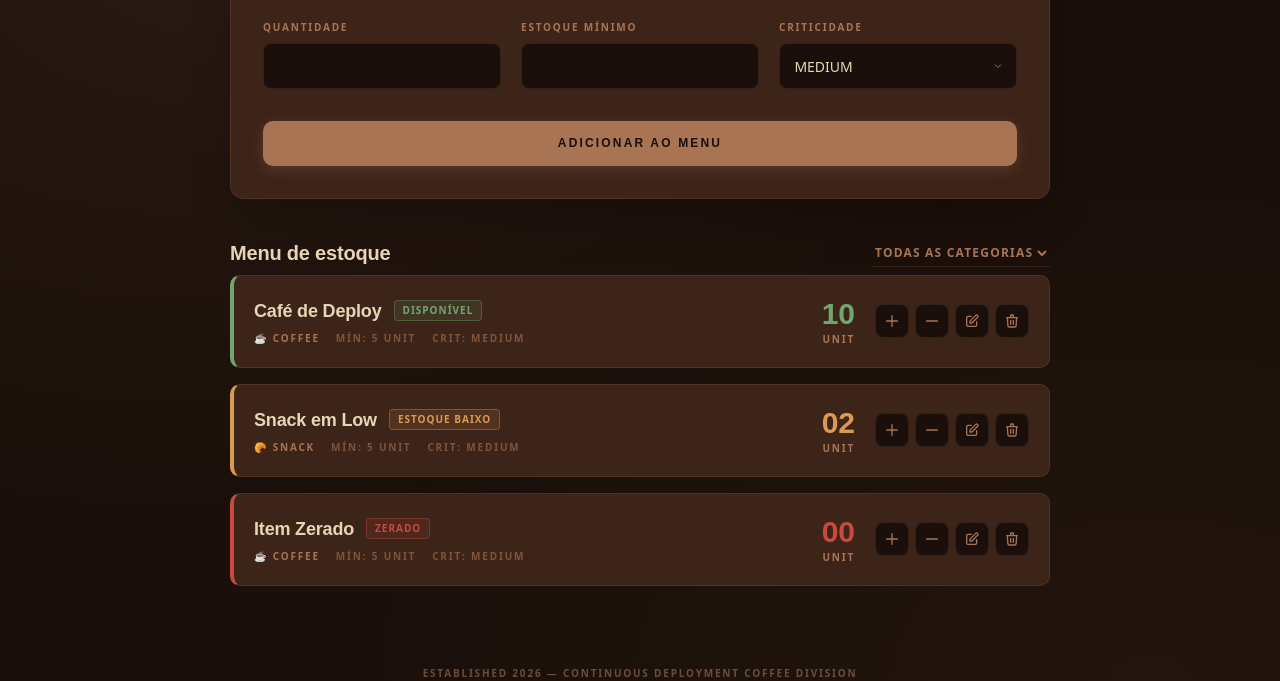
Test: PipelineCafePage › ações no cardápio › exibe erro ao falhar remoção
The width and height of the screenshot is (1280, 681).
(page scrolled)
Step 1. Click the button titled "Remover" next to "10" → (1012, 321), box [995,304,1029,338]
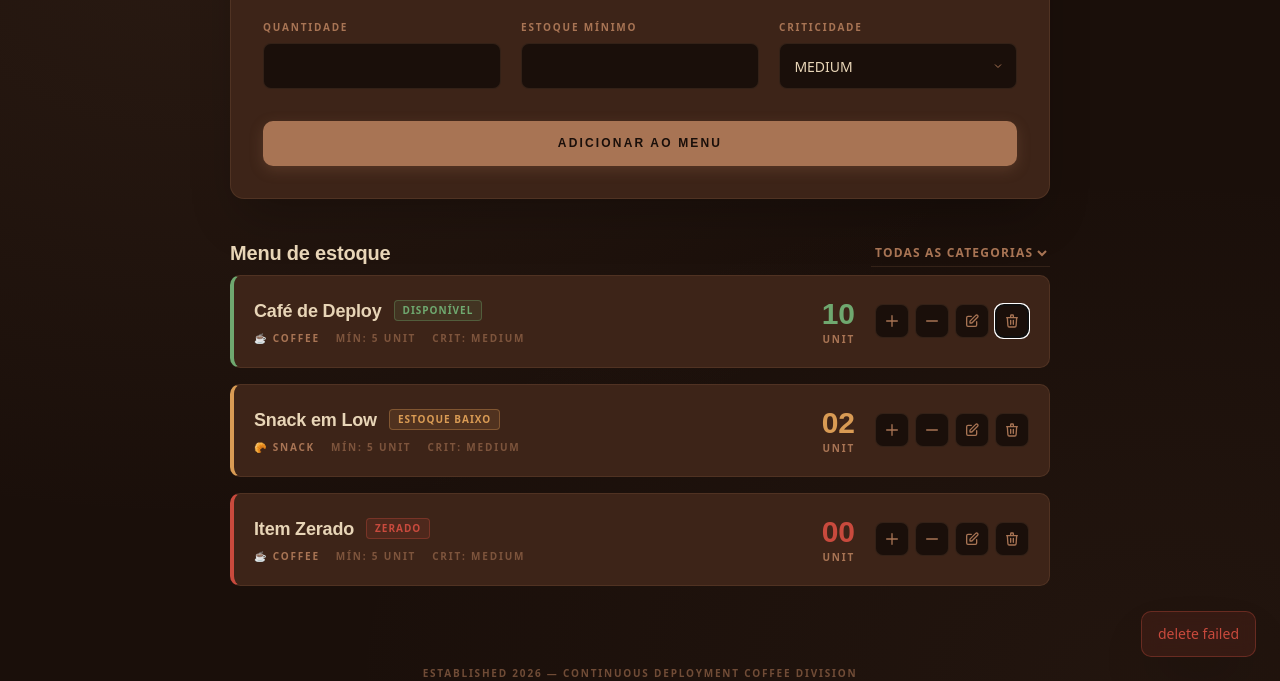
expect the text "delete failed" is shown: met, box [1141,611,1256,657]
